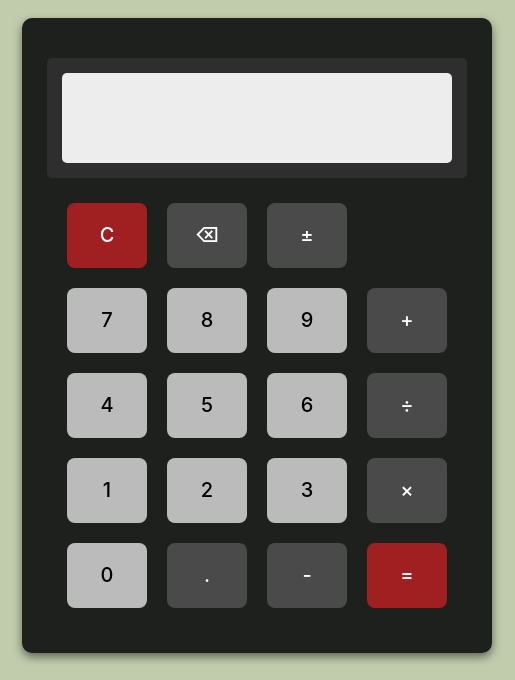
Test: changes sign of the number
Step 1. Click the button "8" → (207, 320), box 167,288 -> 247,352
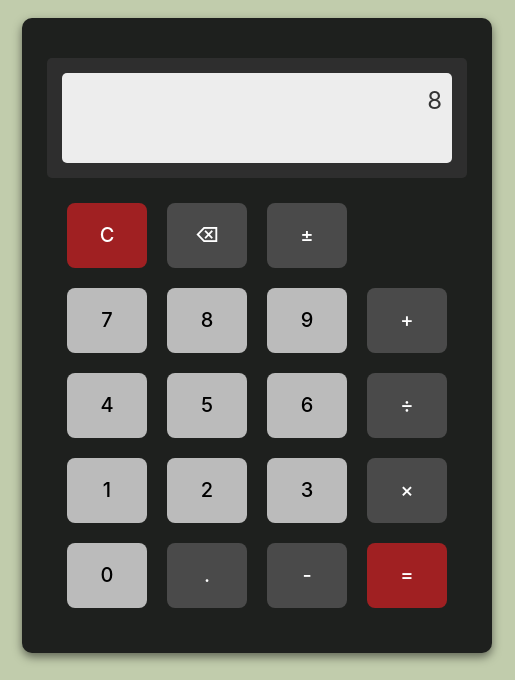
Step 2. Click the button "±" → (307, 235), box 267,202 -> 347,268
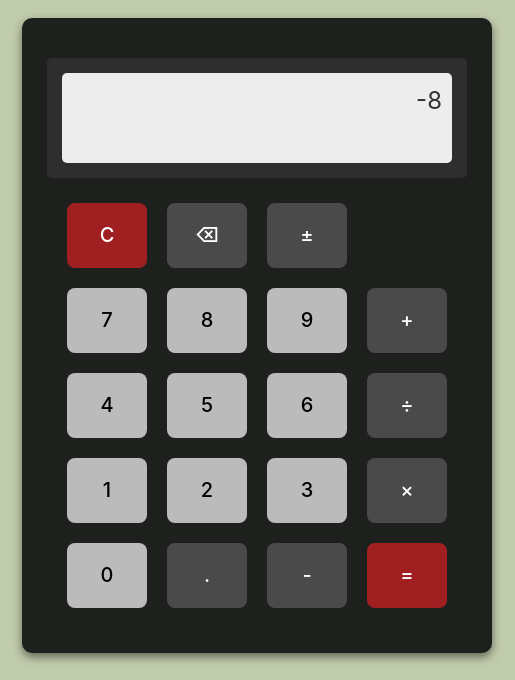
Result: the text with test id "display-value" reads "-8" at 416,86 -> 442,114
